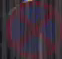No Stopping: (3, 1, 53, 51)
